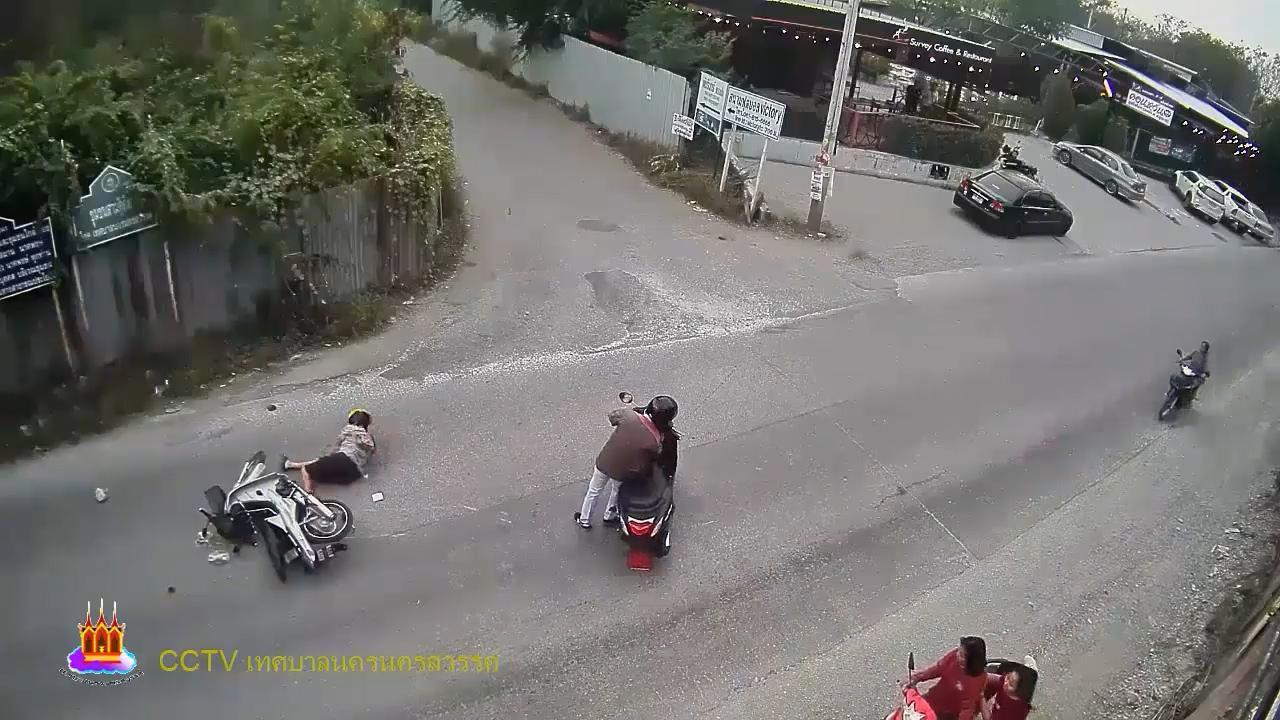accident: (277, 404, 379, 503)
